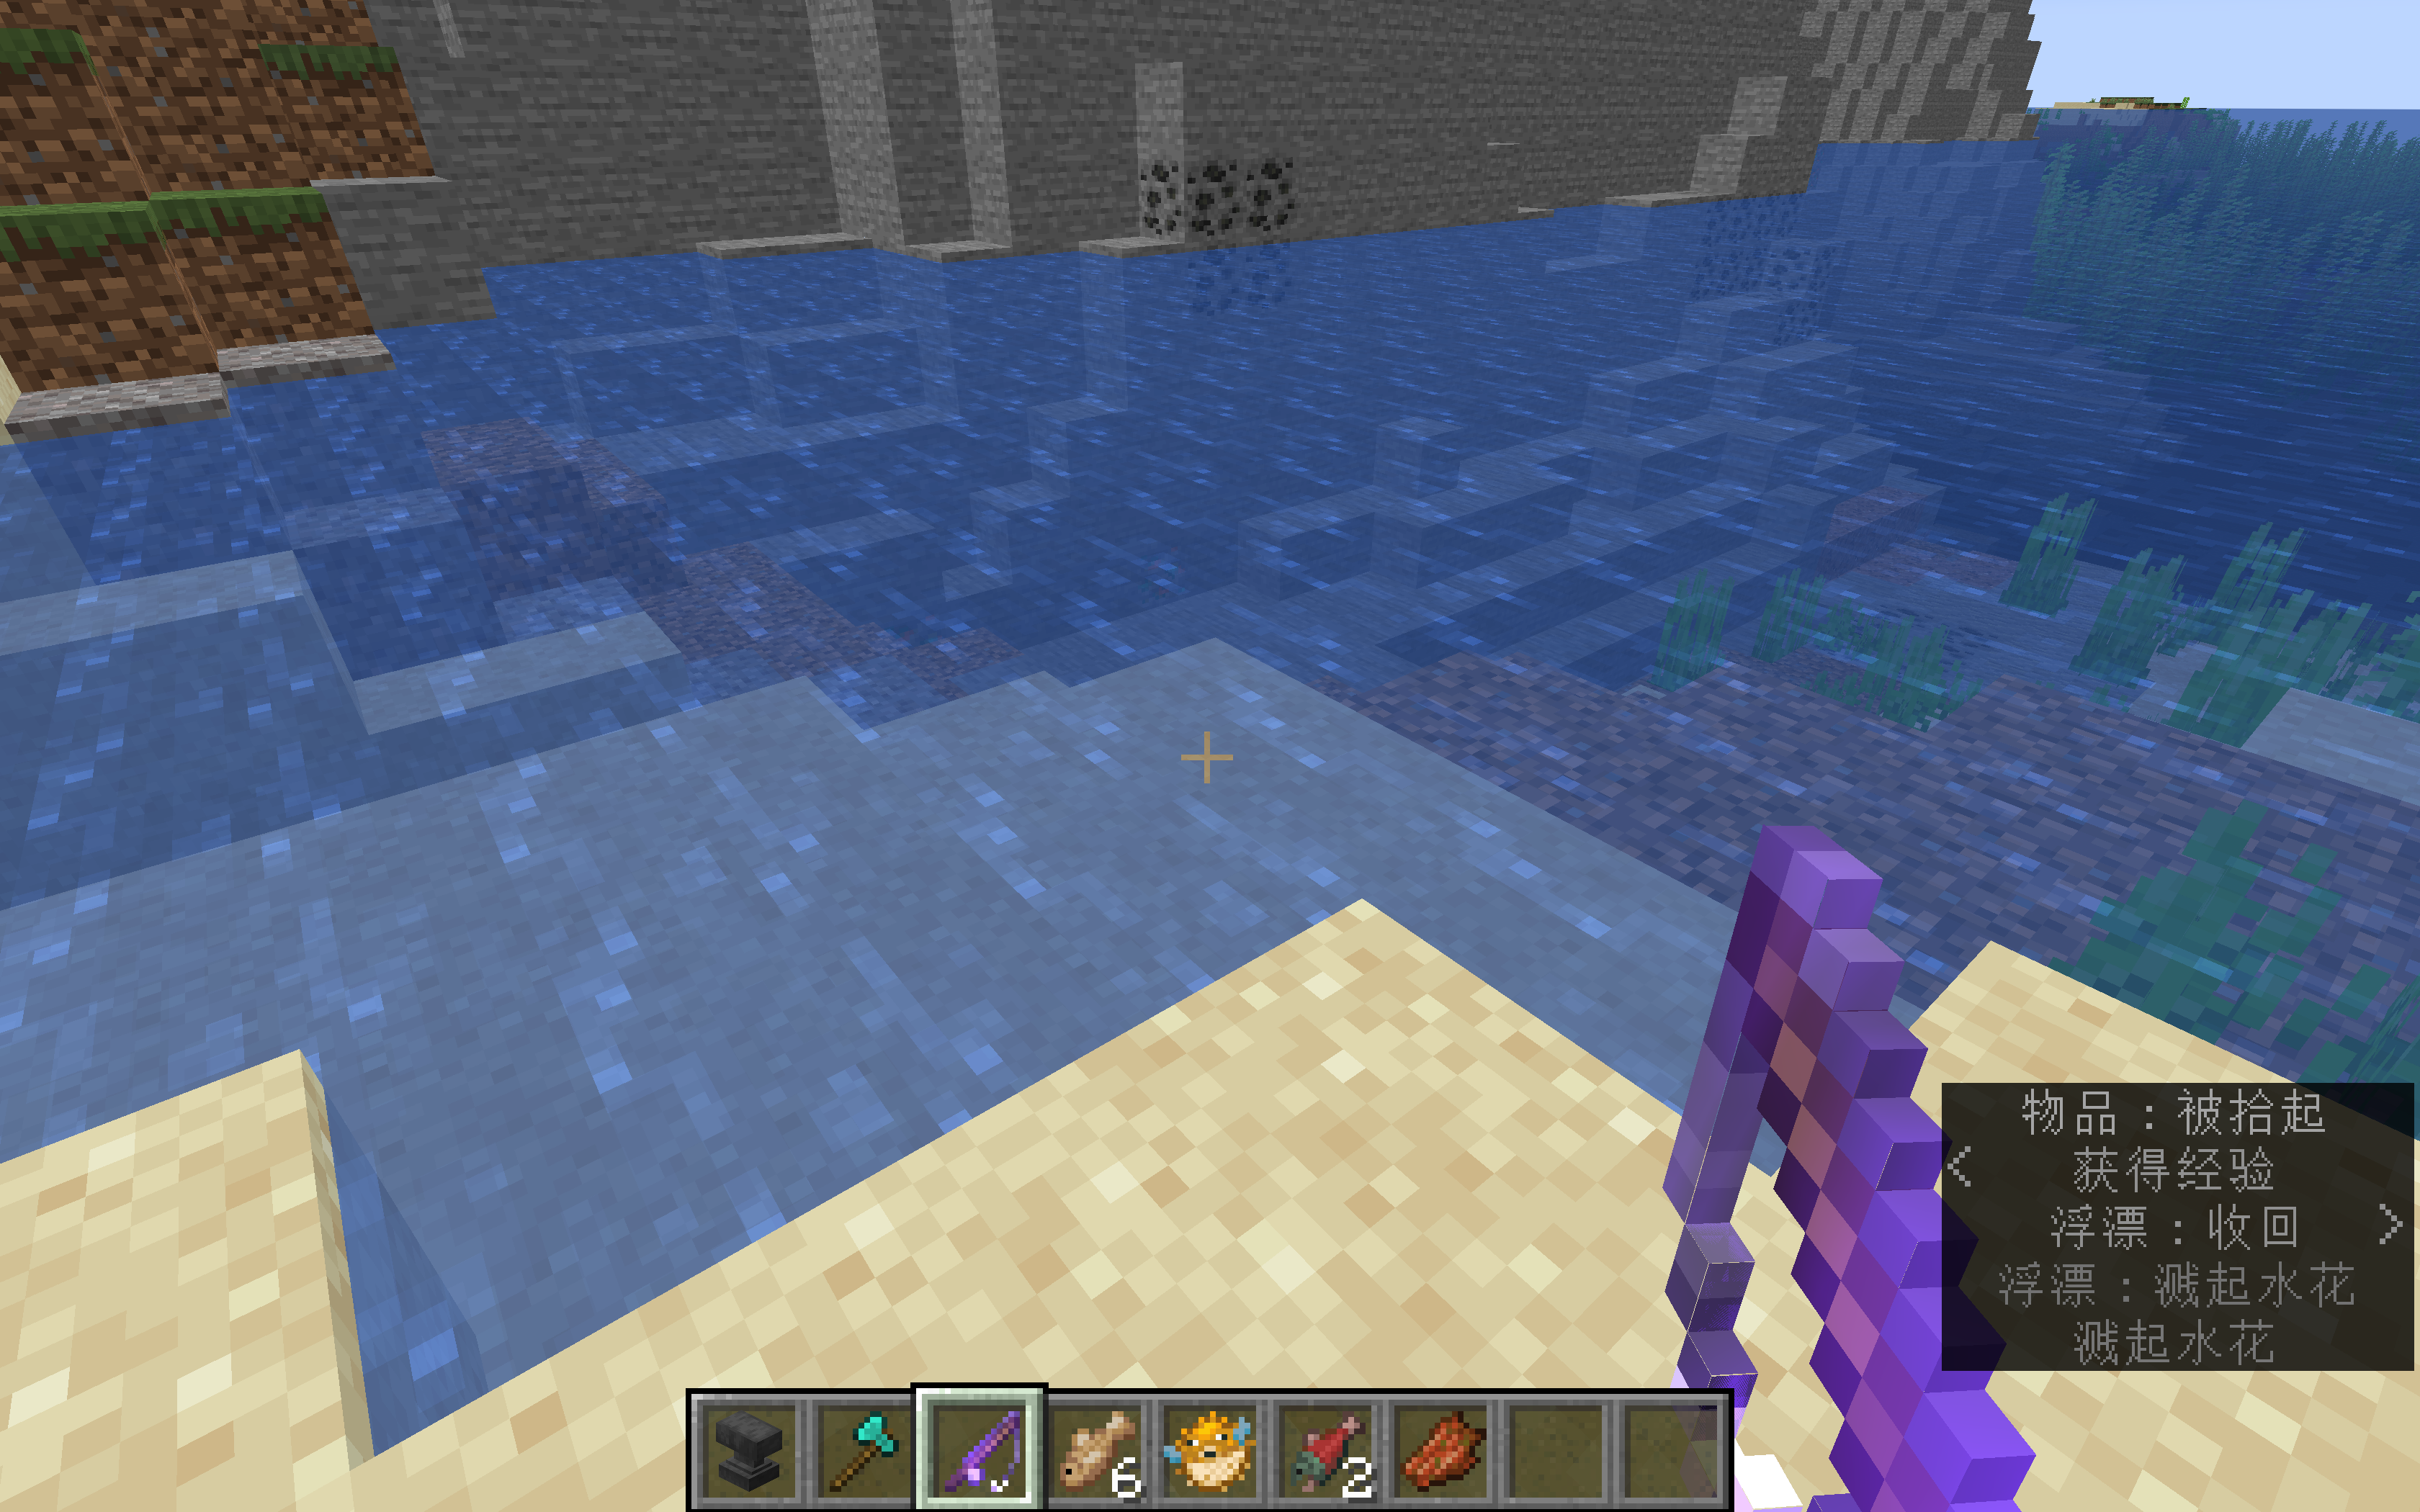inf: (1944, 1083, 2417, 1367)
